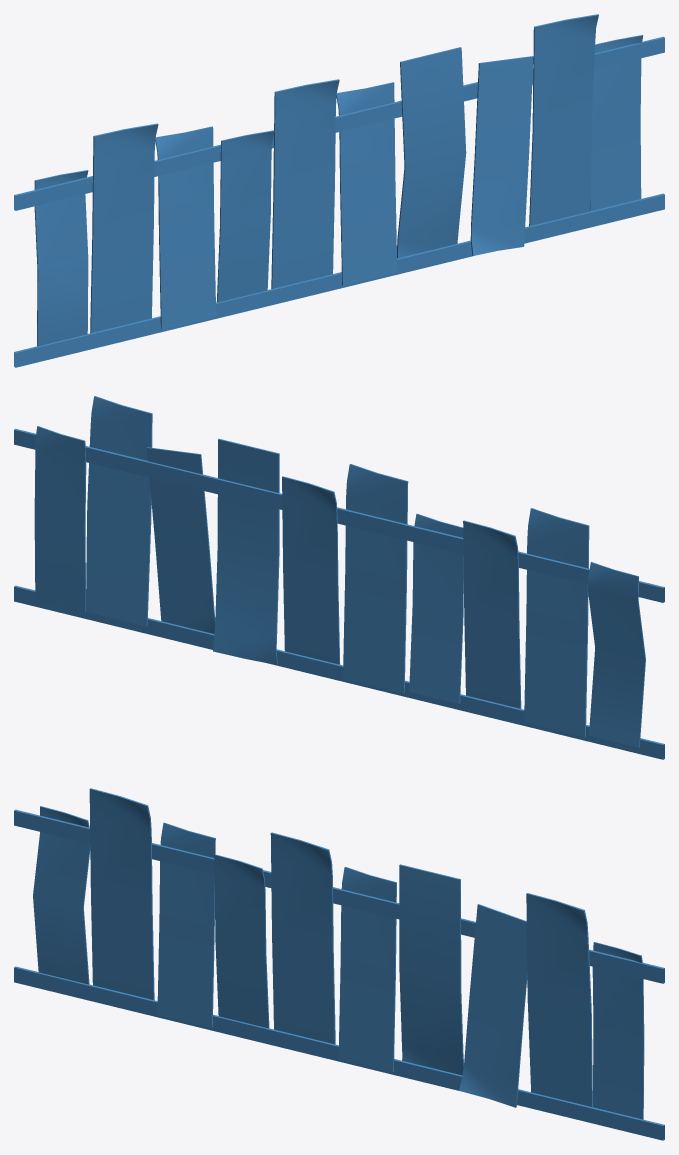
File: Deco_Fence_Bars_Mid_B.fbx
The picture shows the model from 3 angles, top to bottom: view 1: azimuth 30°, elevation 25°; view 2: azimuth 150°, elevation 25°; view 3: azimuth 330°, elevation 25°; orthographic projection.
Visible parts, largest first — view 1: Deco_Fence_Bars_Mid_B; view 2: Deco_Fence_Bars_Mid_B; view 3: Deco_Fence_Bars_Mid_B.
Boxes of the visible parts, x1,y1,x2,y2 form: Deco_Fence_Bars_Mid_B: (14,14,664,367); Deco_Fence_Bars_Mid_B: (14,396,664,759); Deco_Fence_Bars_Mid_B: (14,788,664,1140).
Size of the model in its own units: 900 by 288 by 30.68.
